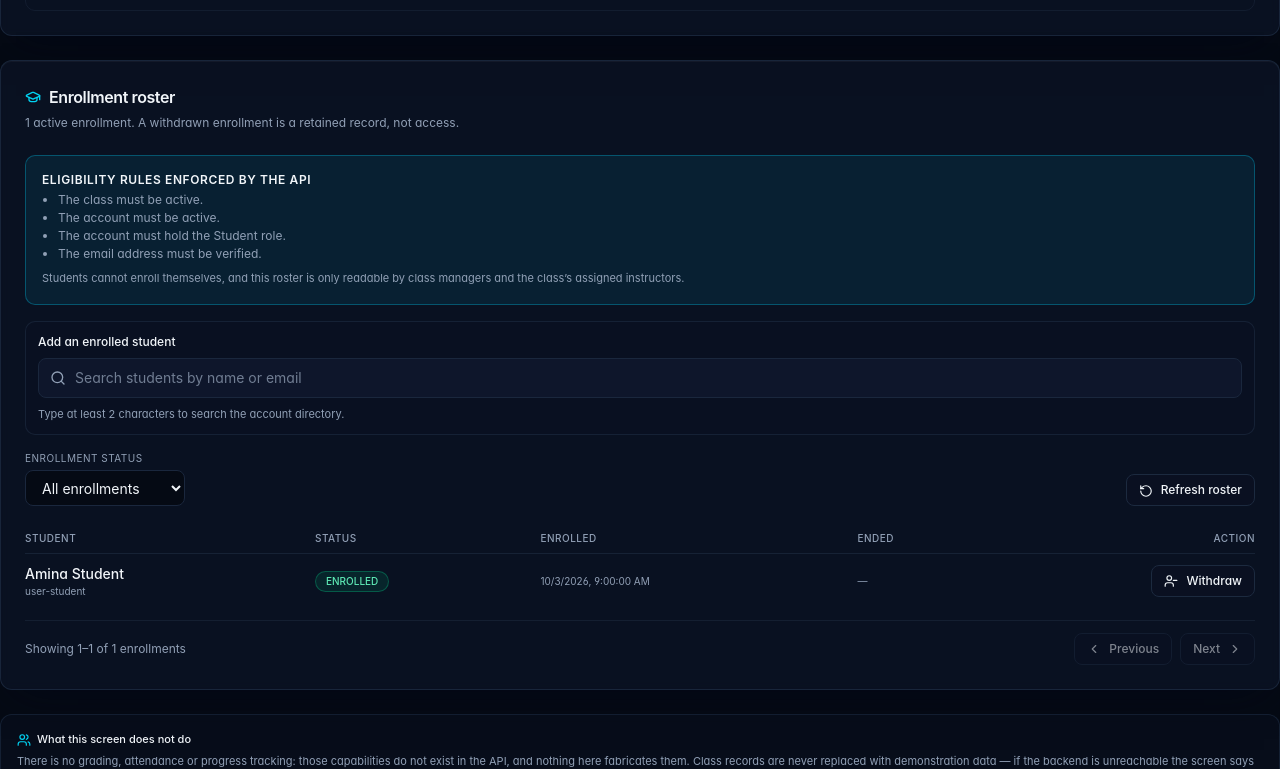
Enrollment administration › enrolls a student chosen from the directory and refreshes the roster
This screenshot has width=1280, height=769.
(page scrolled)
Expected: the heading "Enrollment roster" is shown, 25,87 -> 175,107
Type "amina" into the search field named "Search student accounts" at (640, 378), box 38,358 -> 1242,398
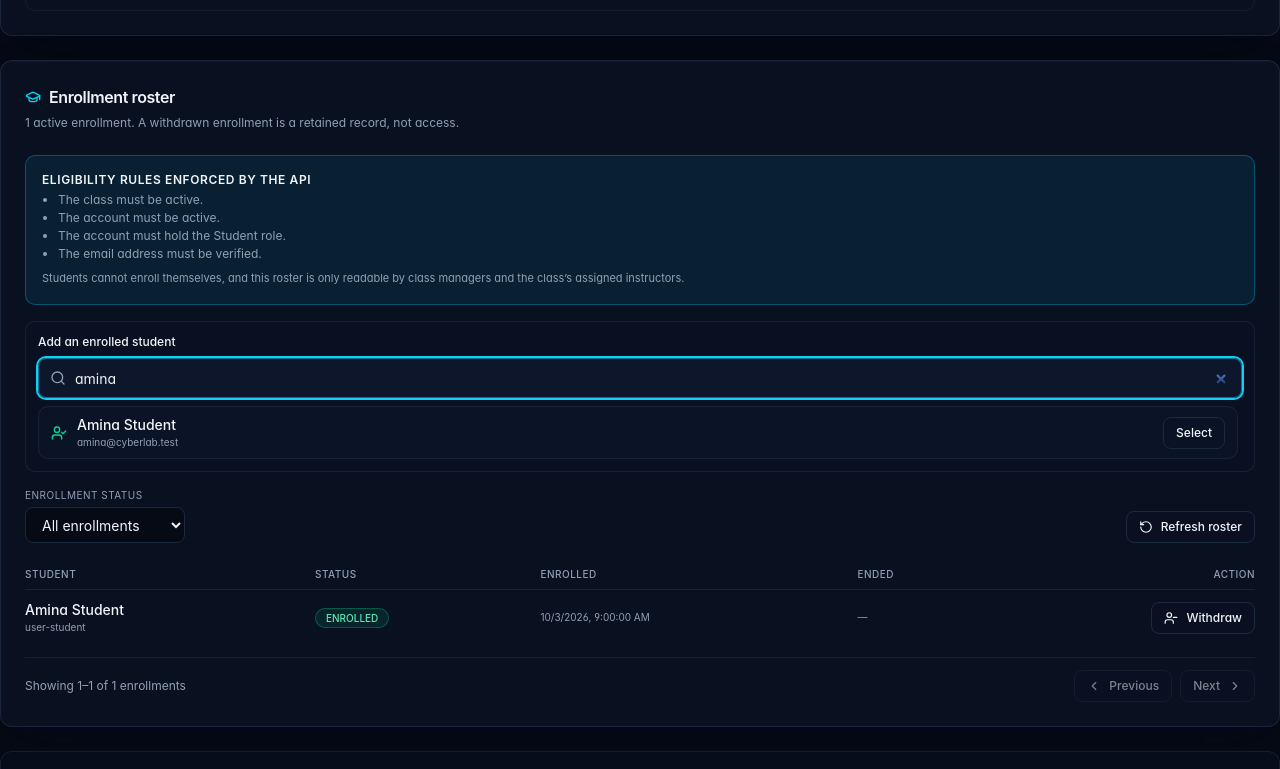
Click the button with aria-label "Select Amina Student" at (1194, 433), box 1163,417 -> 1225,449
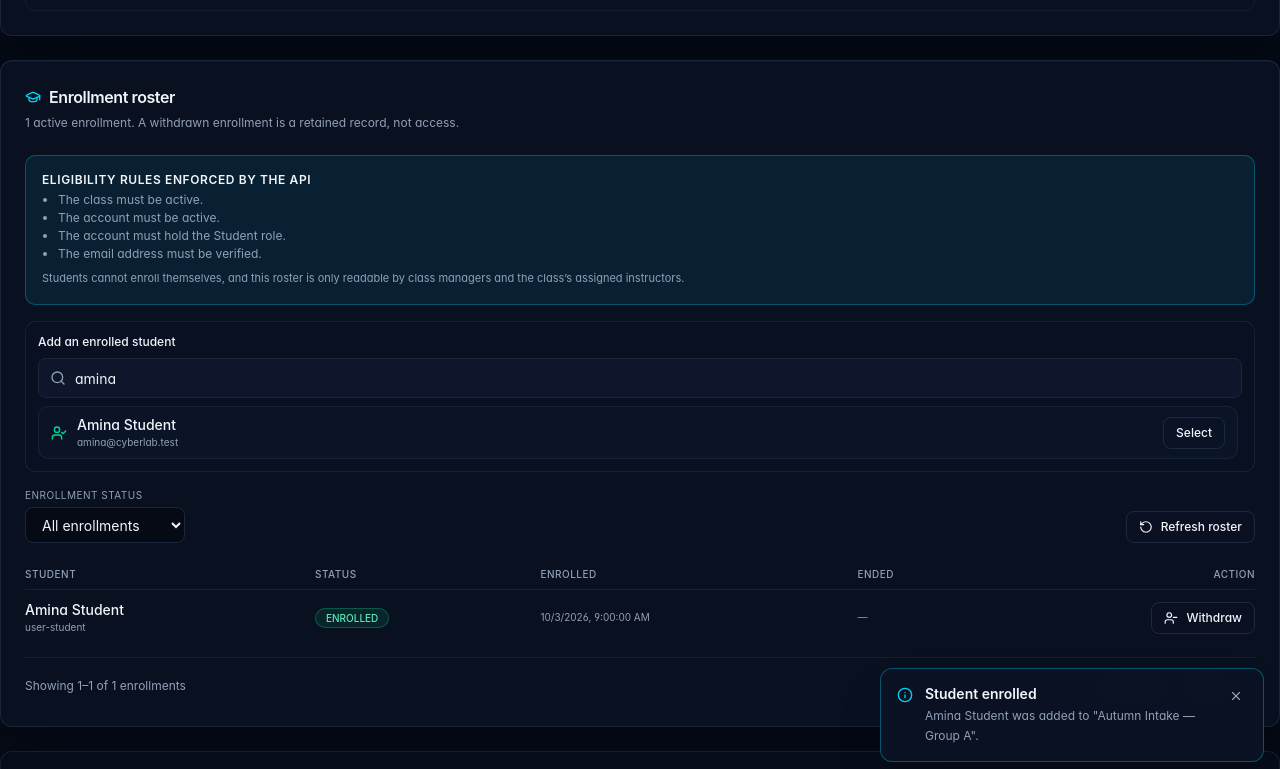
Result: the text "Student enrolled" is shown at 925,684 -> 1037,702
